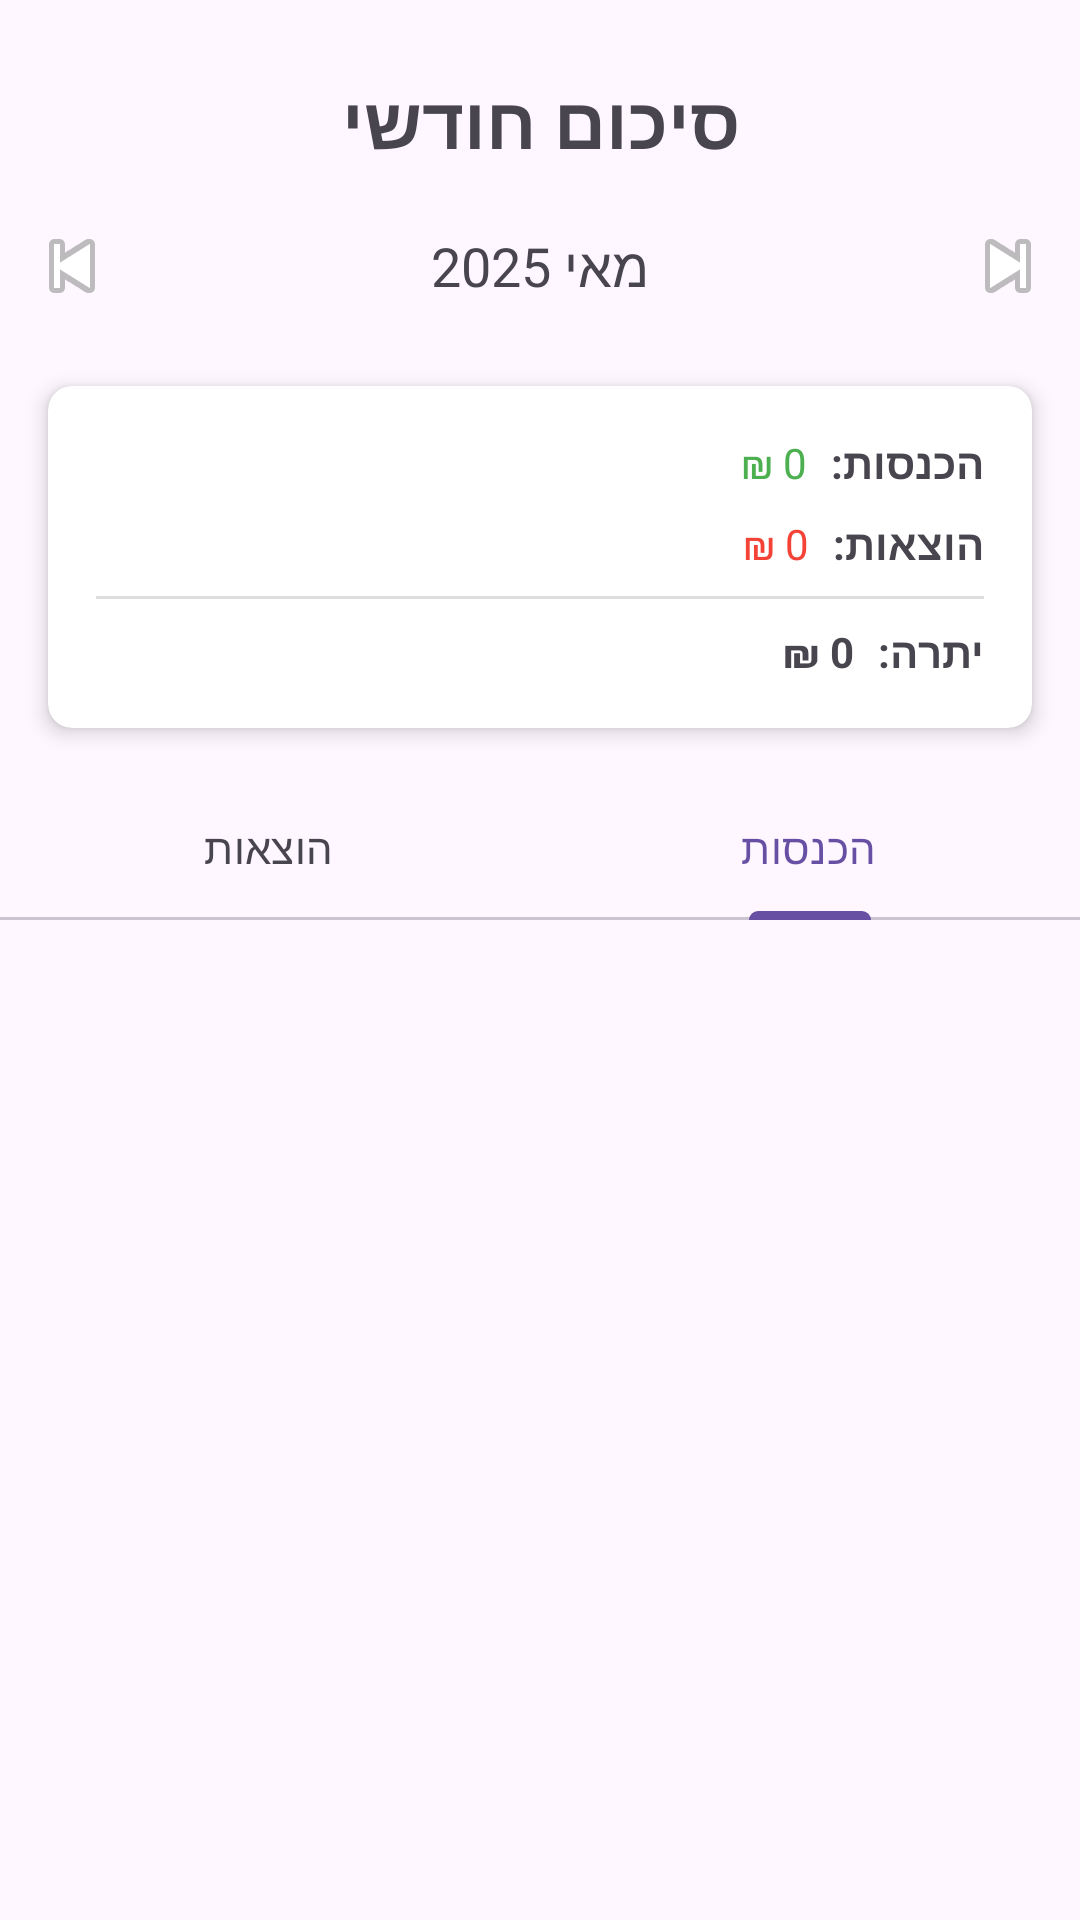

Where to tap for icons on this 1080x1920 app screen, as [x,y]:
החודש הבא: [72,266]
החודש הקודם: [1008,266]
